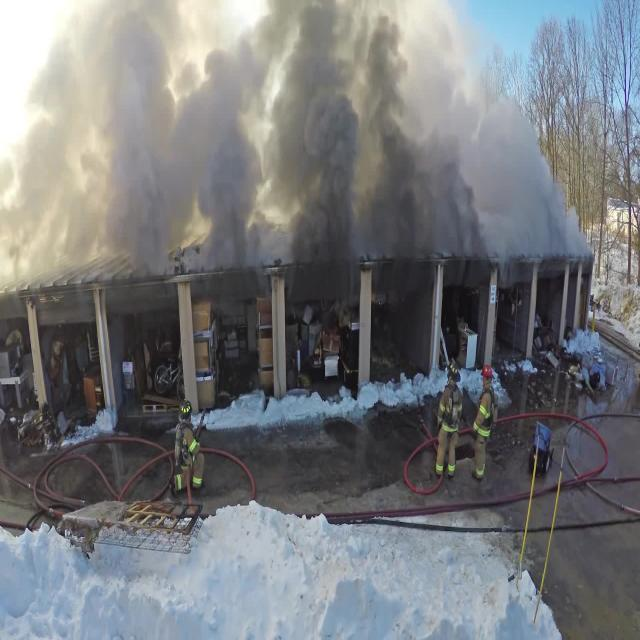Smoke: (0, 0, 604, 264)
